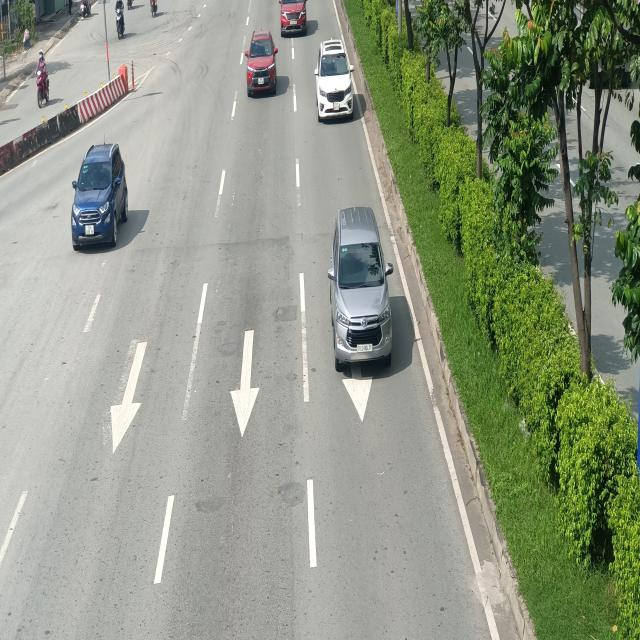car: (330, 210, 393, 368), (72, 143, 130, 250), (314, 41, 354, 122), (242, 30, 279, 94)
